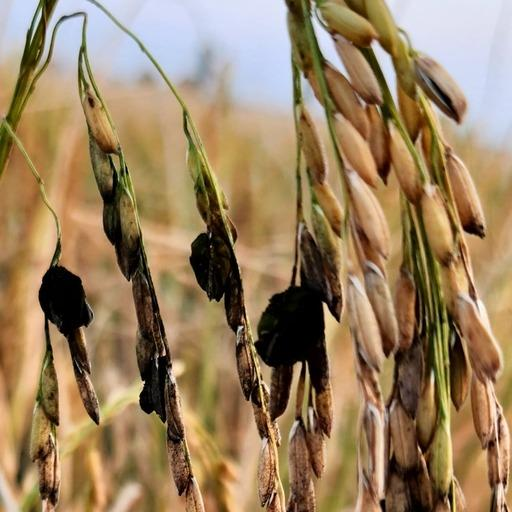Leaf_Scald: (254, 282, 338, 394), (175, 222, 248, 308), (28, 253, 95, 336)
